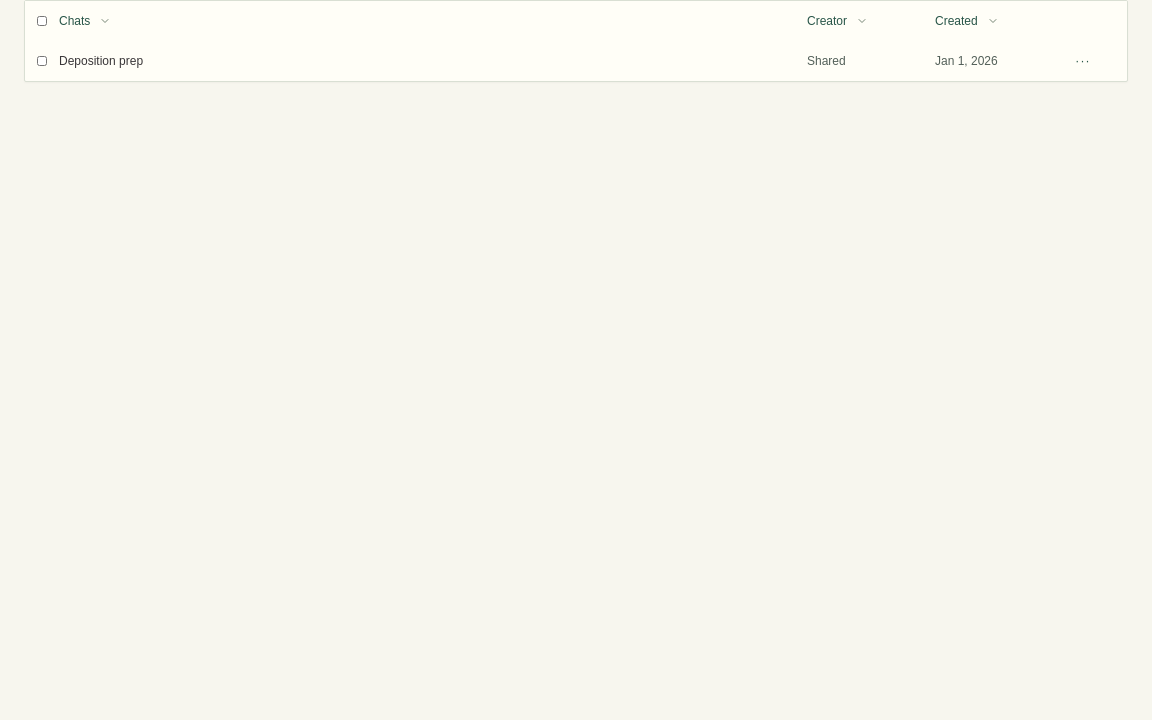
Test: ProjectAssistantTable delete confirmation › deletes nothing when the confirmation is cancelled
The width and height of the screenshot is (1152, 720).
Step 1. Click the button "···" → (1083, 61), box [1071,49,1095,73]
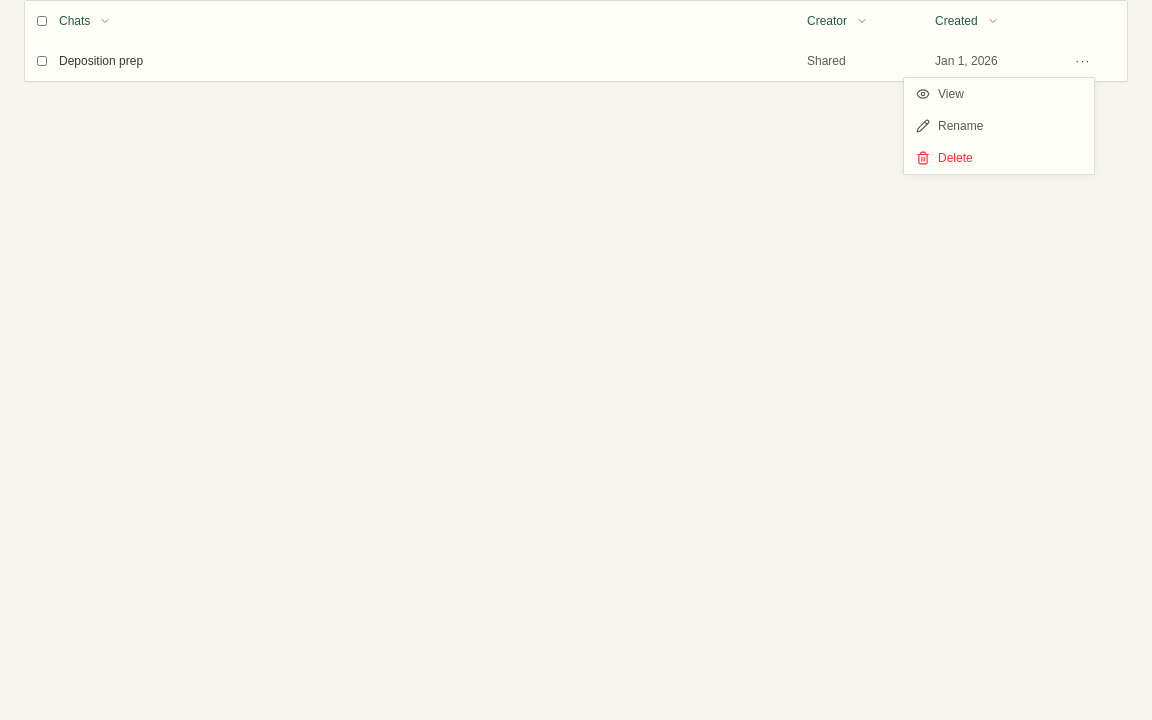
Step 2. Click the button "Delete" → (999, 158), box [904,142,1094,174]
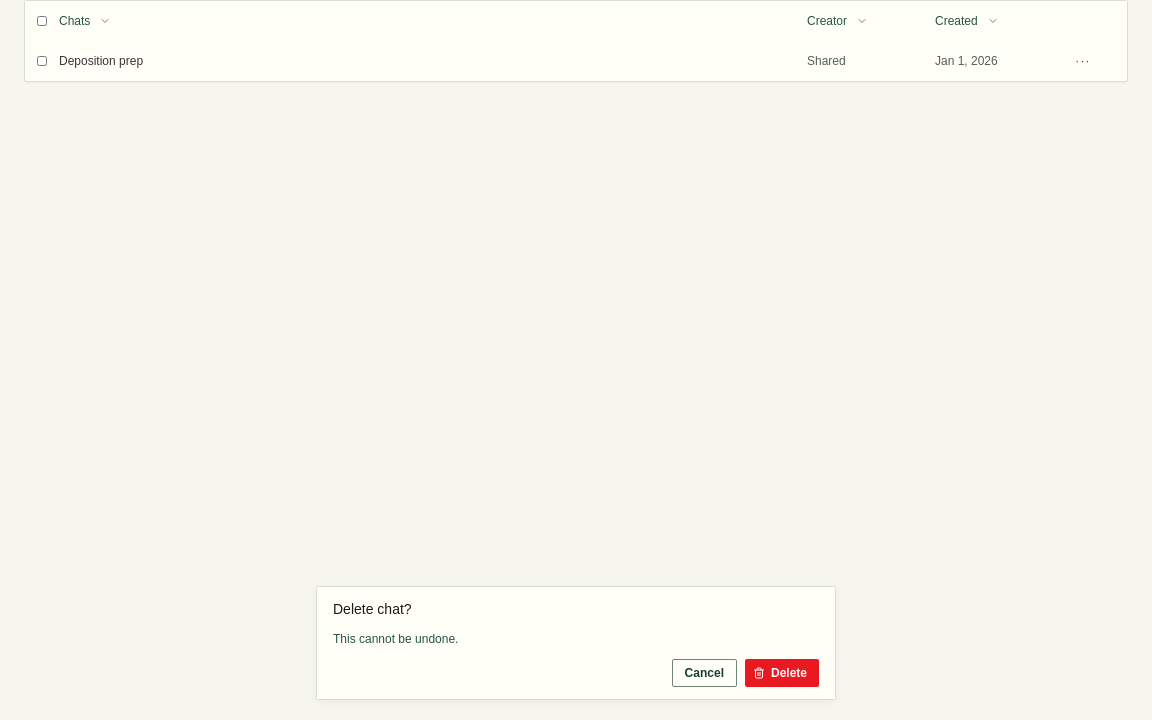
Step 3. Click the 1st button named "Cancel" → (704, 673), box [672,659,737,687]
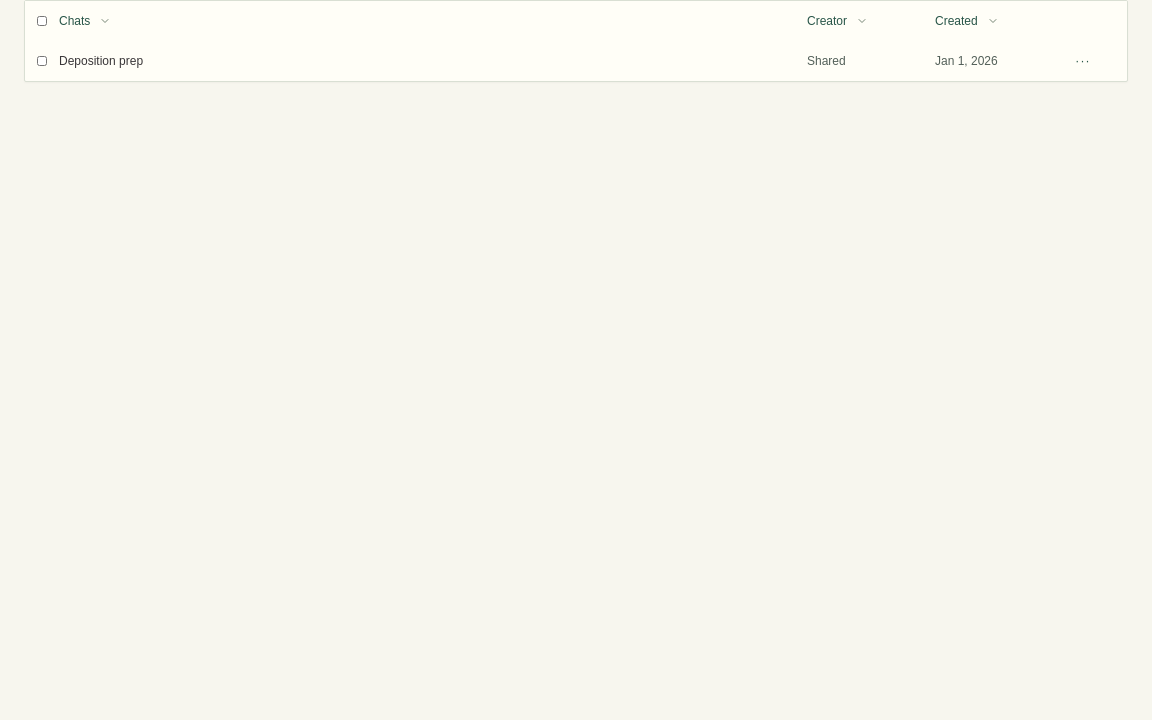
Now the text "Delete chat?" is gone
